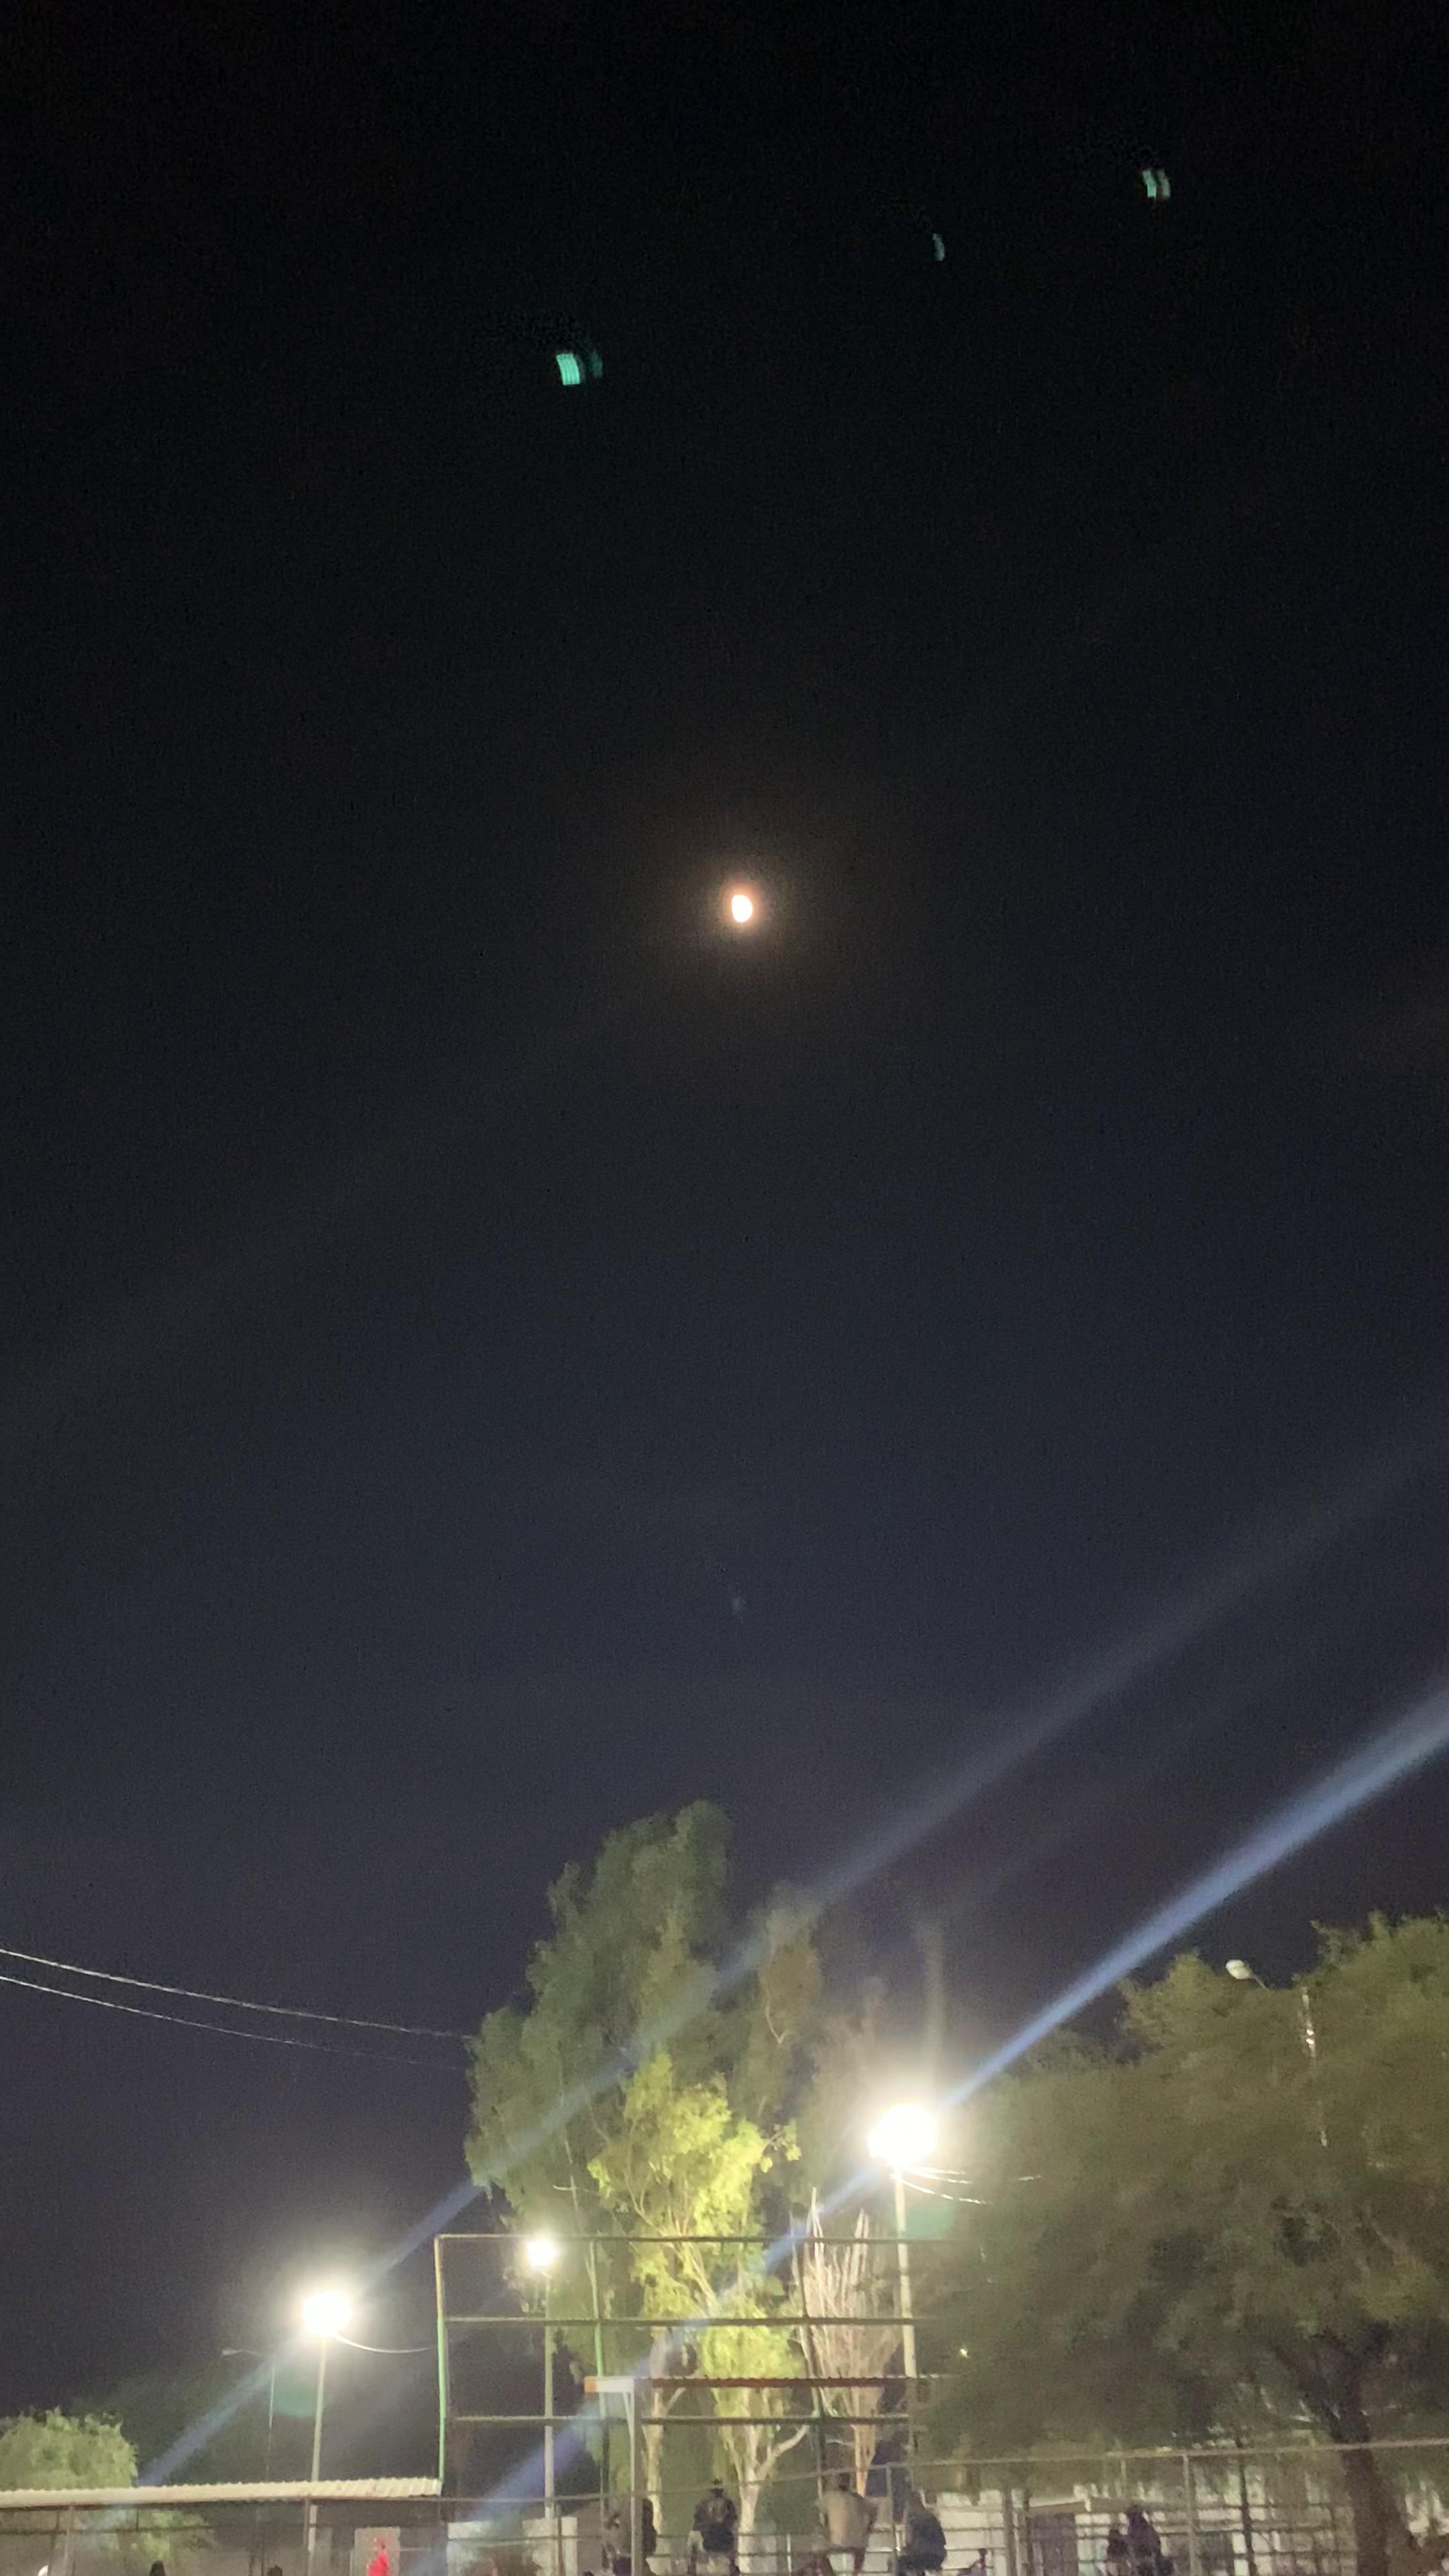moon: (667, 840, 828, 973)
